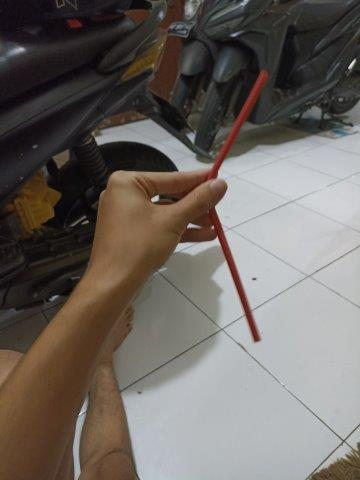sedotan: (208, 73, 266, 340)
